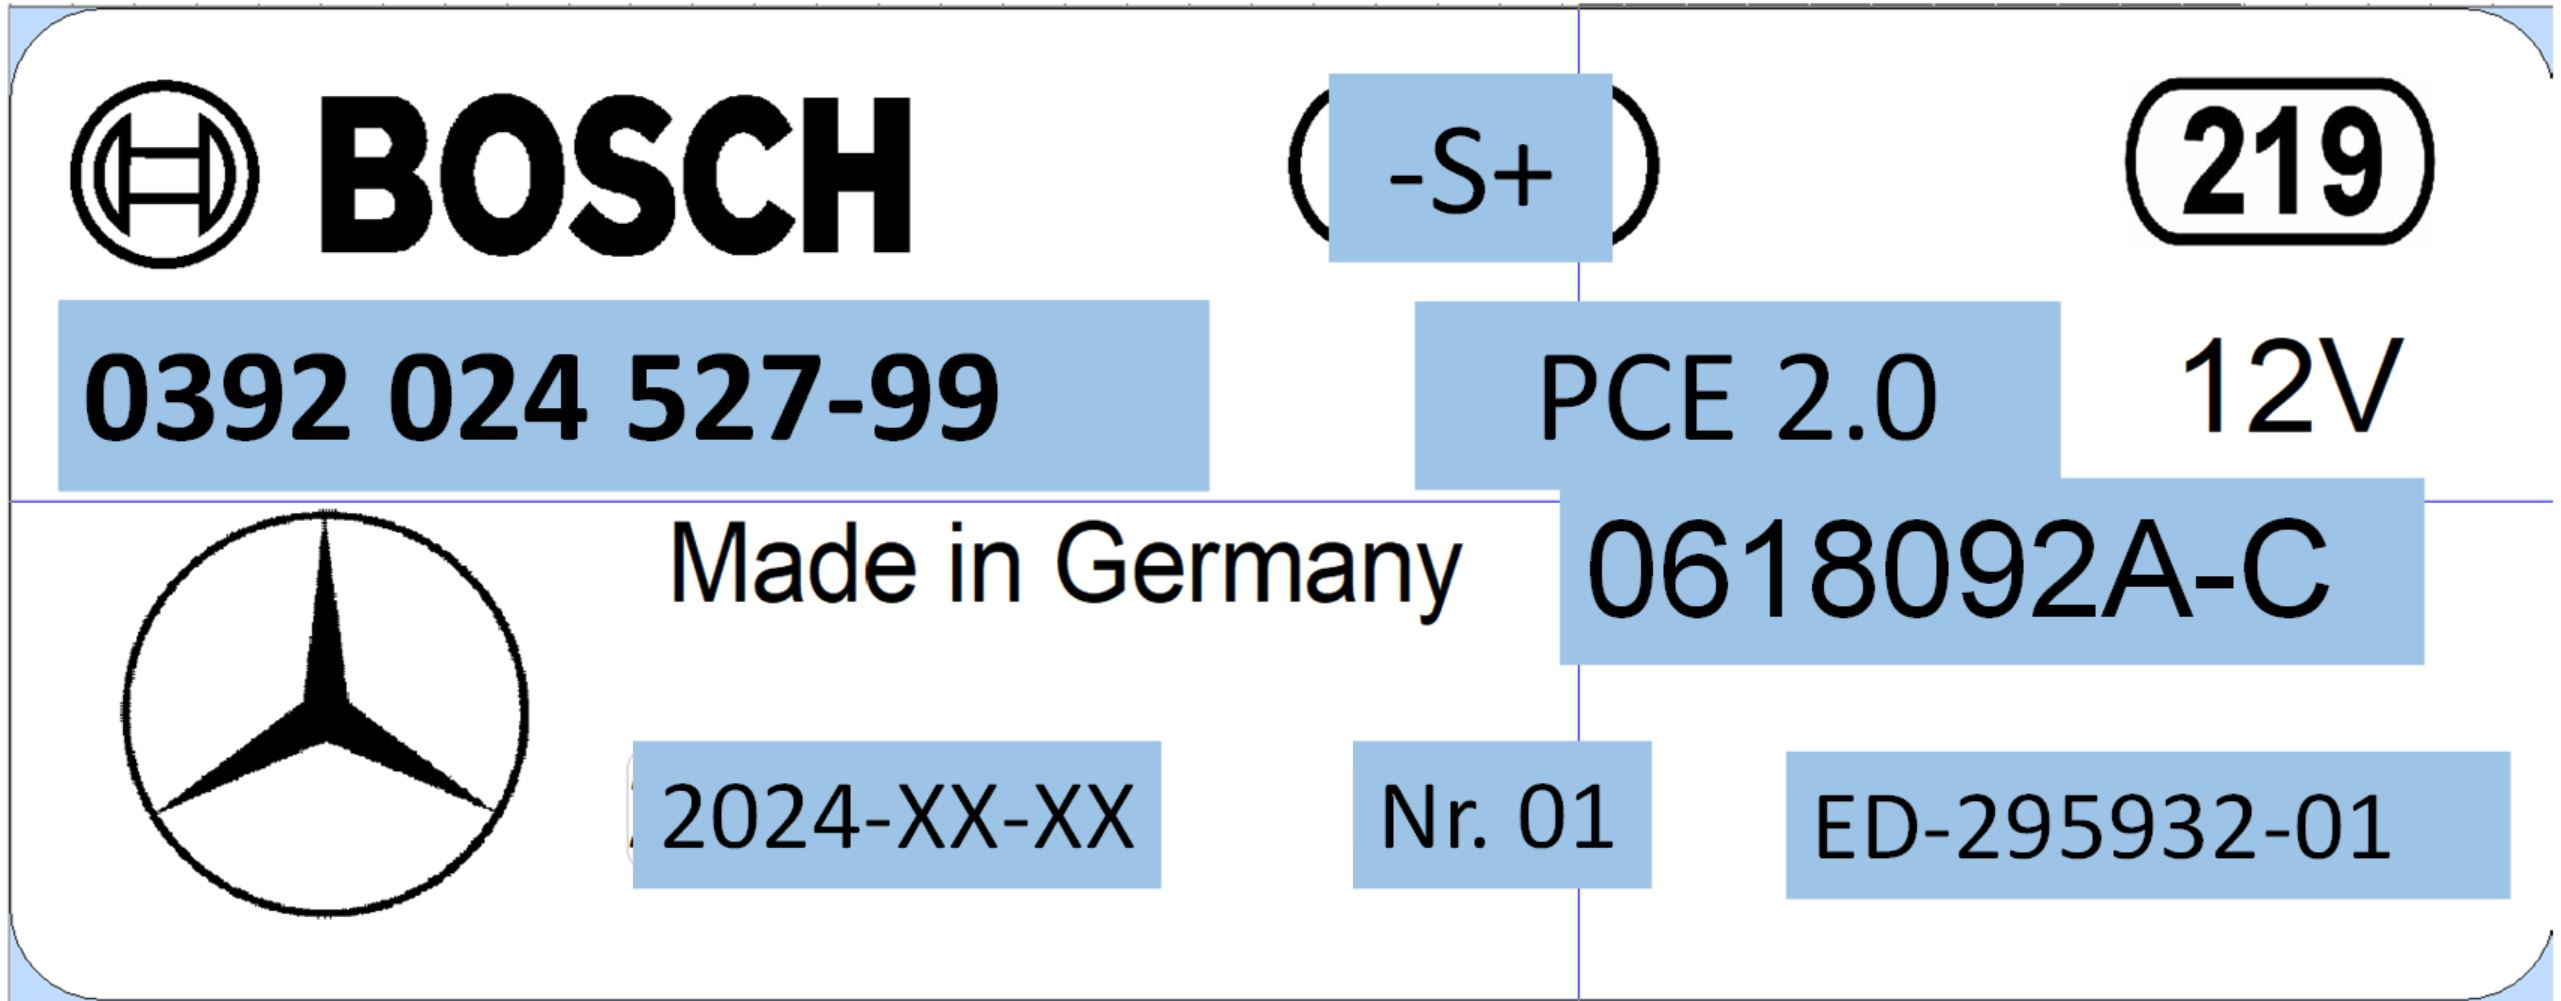p1: (65, 318, 1212, 469)
p2: (1413, 309, 2061, 469)
p3: (1570, 496, 2425, 660)
p4: (1779, 750, 2509, 900)
